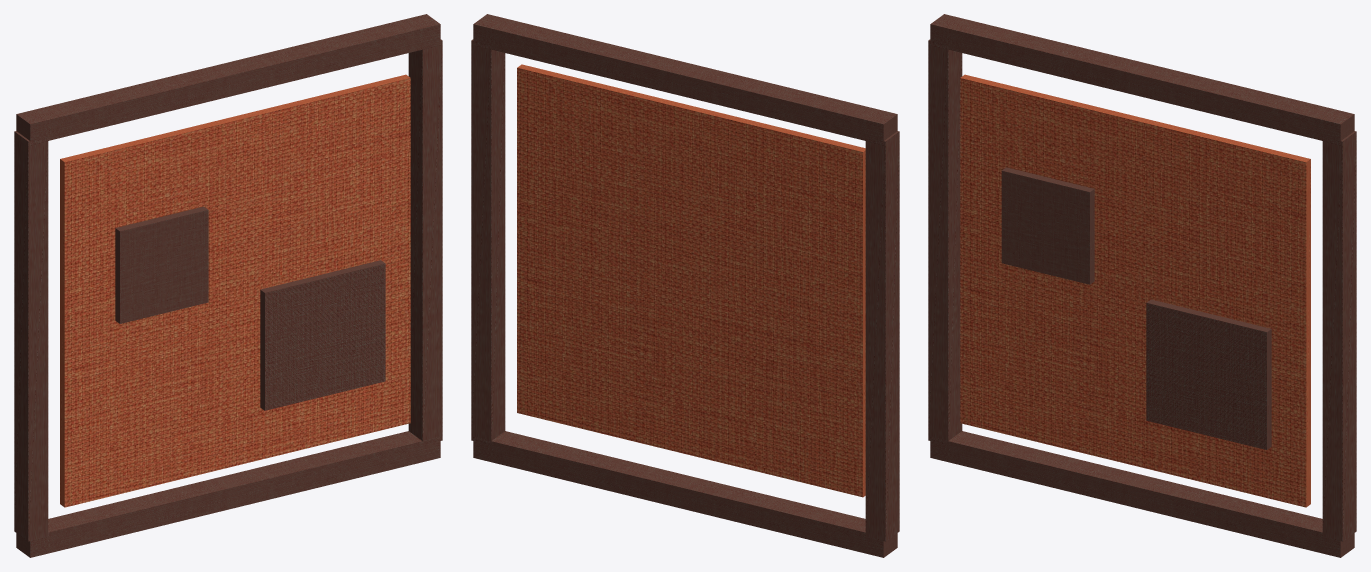
File: wallart.gltf
The picture shows the model from 3 angles, left to right: view 1: azimuth 30°, elevation 25°; view 2: azimuth 150°, elevation 25°; view 3: azimuth 330°, elevation 25°; orthographic projection.
Visible parts, largest first — view 1: canvas, shape2, frame_t, frame_b, frame_l, frame_r, shape1; view 2: canvas, frame_t, frame_b, frame_l, frame_r; view 3: canvas, shape2, frame_t, frame_b, frame_r, frame_l, shape1.
Boxes of the visible parts, x1=… form: canvas: x1=60, y1=74, x2=410, y2=507; shape2: x1=260, y1=260, x2=385, y2=410; frame_t: x1=16, y1=14, x2=440, y2=144; frame_b: x1=16, y1=431, x2=440, y2=557; frame_l: x1=14, y1=131, x2=48, y2=541; frame_r: x1=408, y1=39, x2=442, y2=441; shape1: x1=115, y1=206, x2=208, y2=323; canvas: x1=517, y1=64, x2=865, y2=497; frame_t: x1=473, y1=14, x2=897, y2=144; frame_b: x1=473, y1=431, x2=897, y2=557; frame_l: x1=865, y1=131, x2=899, y2=541; frame_r: x1=471, y1=39, x2=505, y2=444; canvas: x1=960, y1=74, x2=1310, y2=507; shape2: x1=1146, y1=299, x2=1271, y2=449; frame_t: x1=930, y1=14, x2=1354, y2=144; frame_b: x1=930, y1=431, x2=1354, y2=557; frame_r: x1=1322, y1=131, x2=1356, y2=541; frame_l: x1=928, y1=39, x2=962, y2=444; shape1: x1=1001, y1=167, x2=1094, y2=284.
Size of the model in its own units: 1.03 by 1.03 by 0.1.
2 materials, 2 textured.
